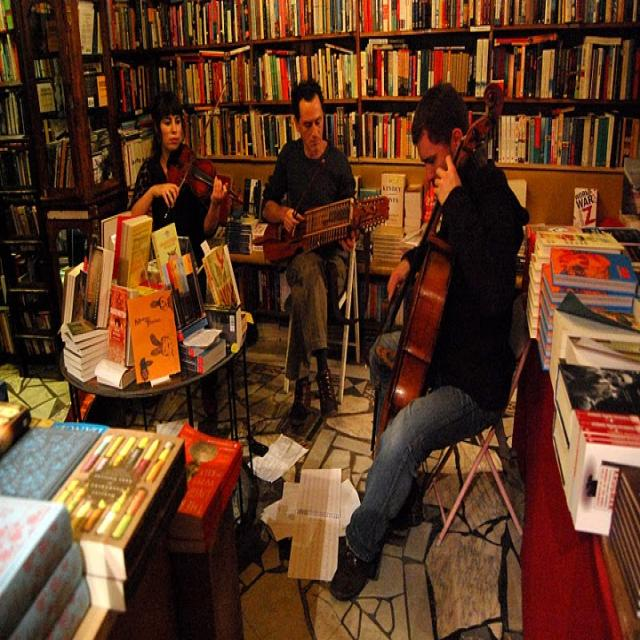cello: (376, 83, 506, 444)
violin: (164, 140, 250, 220)
